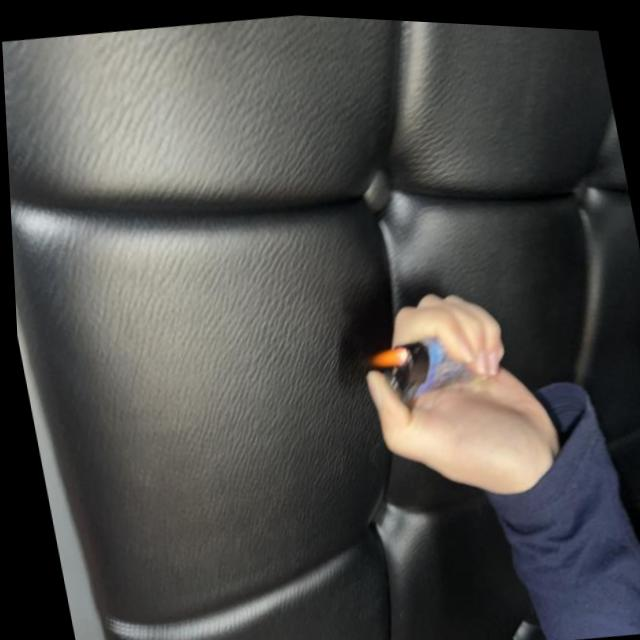Fire: (364, 342, 409, 368)
